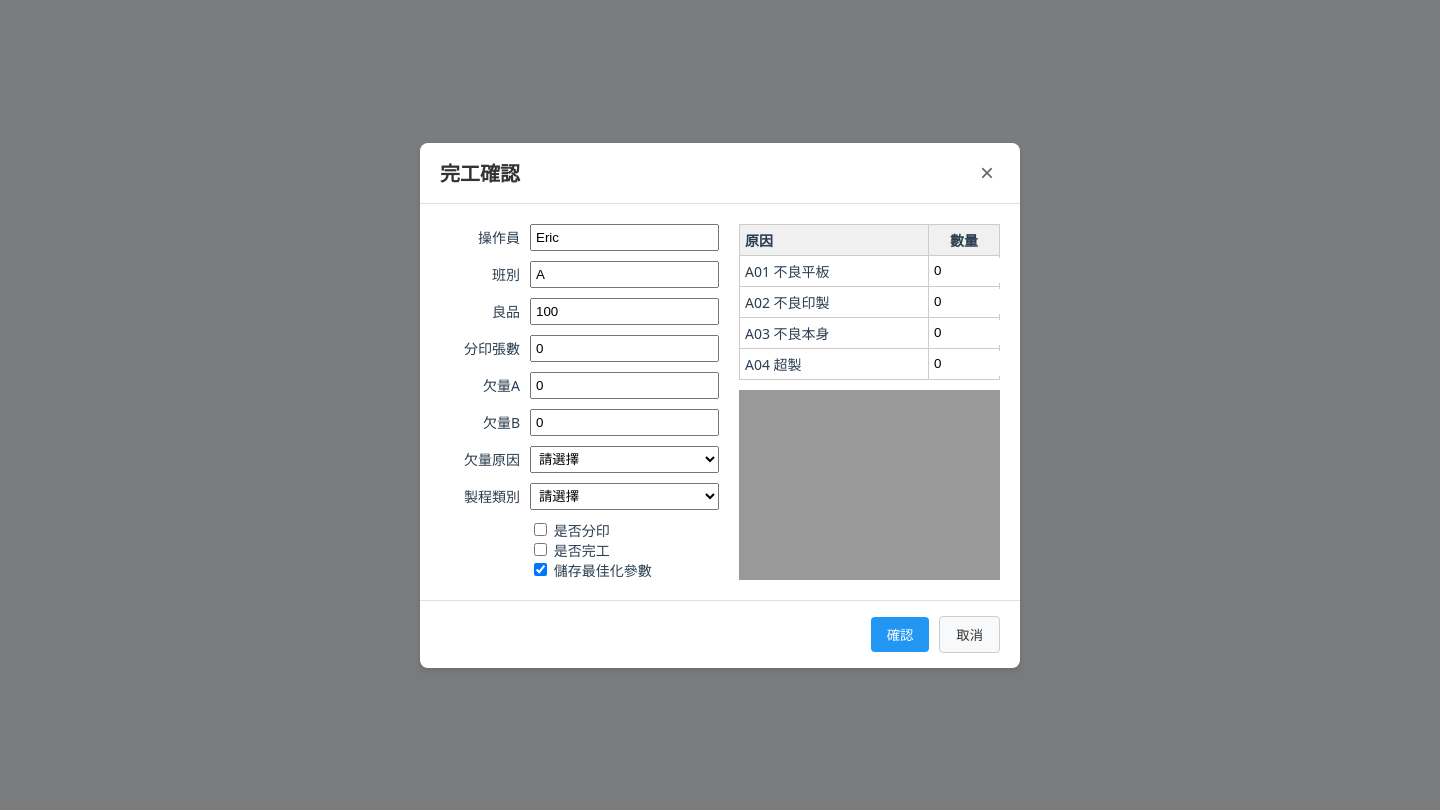
FinishOrderModal › B15 短缺超過門檻且未填原因時中止送出,以視窗內訊息提示而非 alert
Click the button "確認": (900, 634) [871,616,929,652]
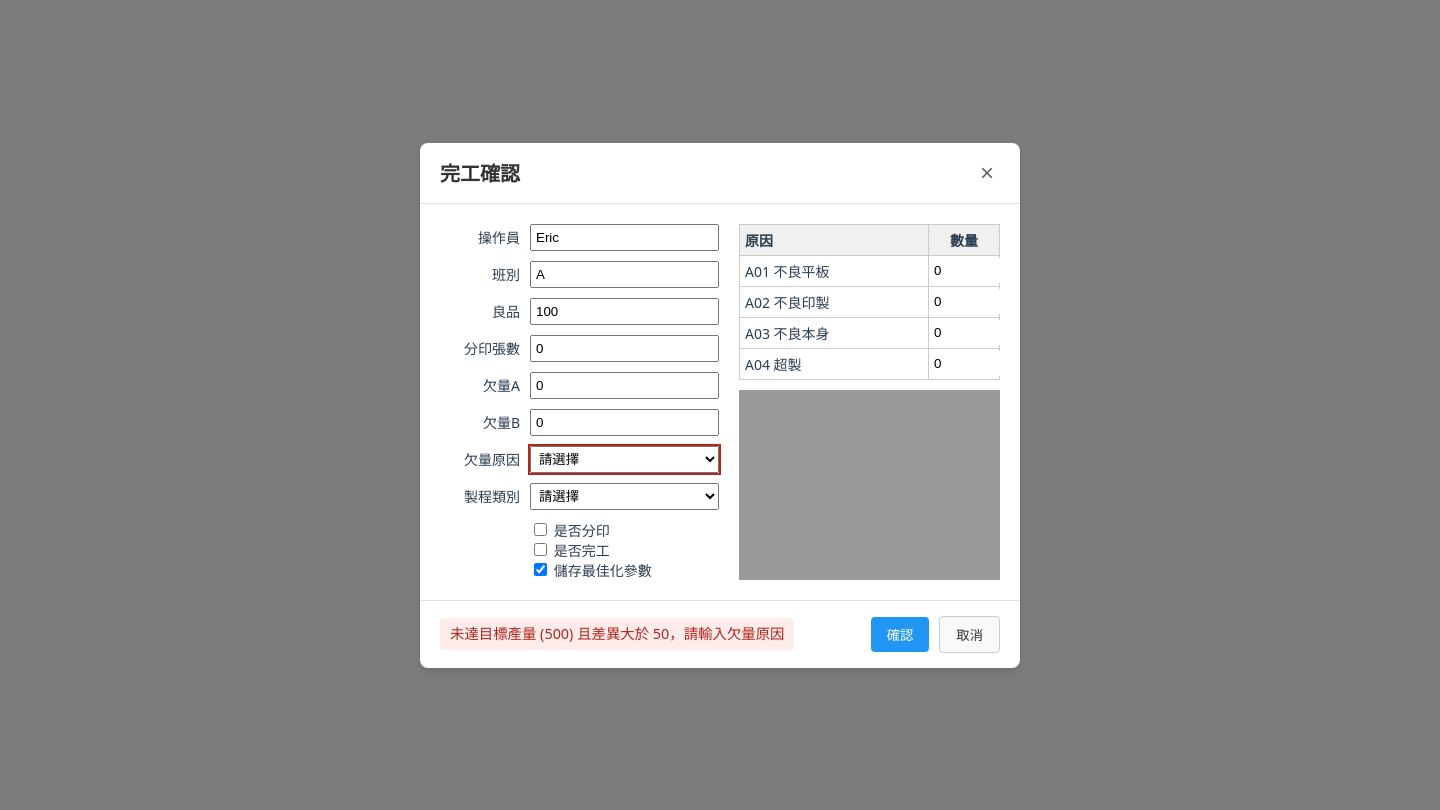
expect the message "未達目標產量 (500) 且差異大於 50，請輸入欠量原因" is shown: met, box [440,618,794,650]
